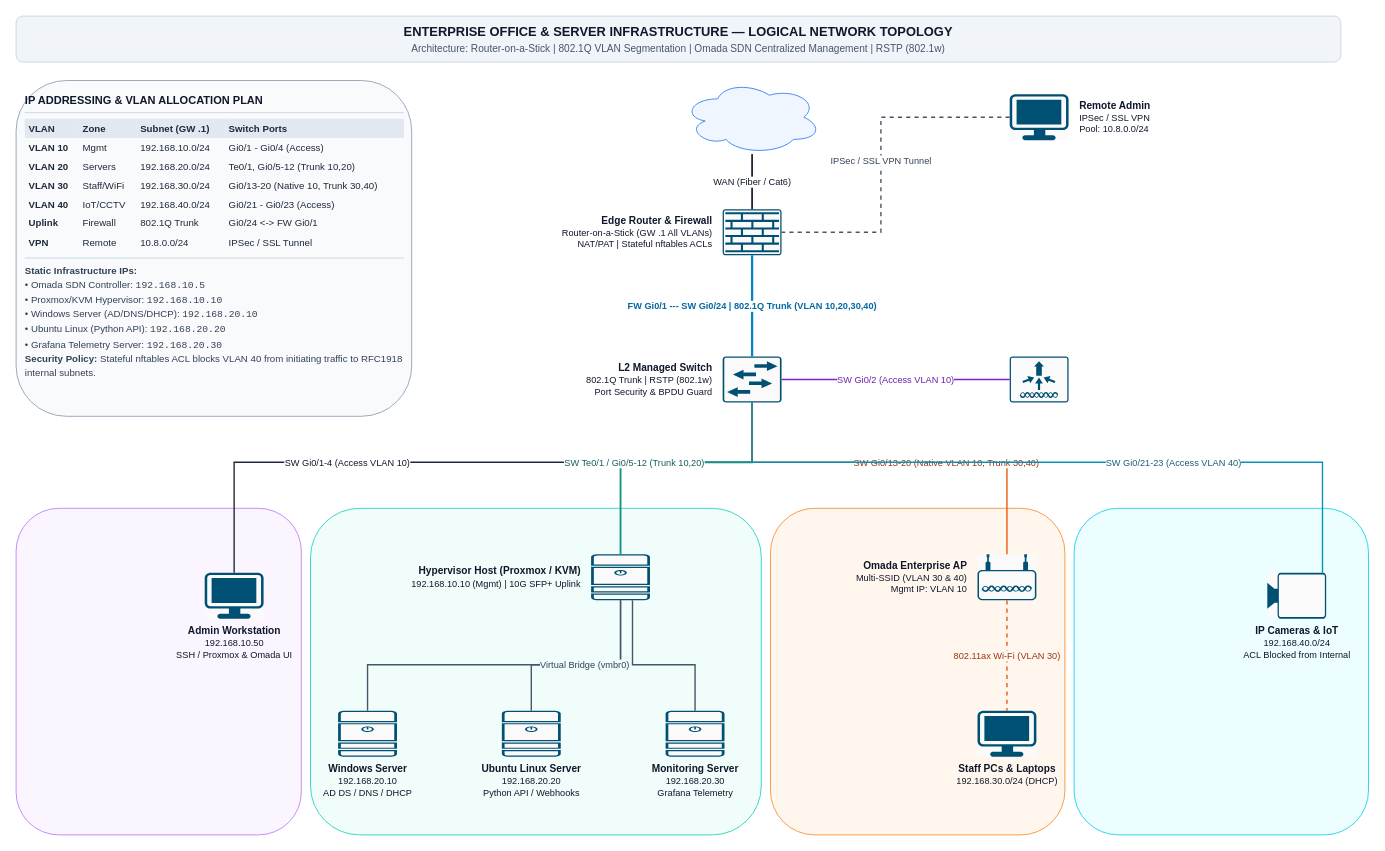
The diagram is 1385 pixels wide and 851 high, and some of its shapes have lost their labels. Each missing label, with the box of its shape:
Internet / ISP WAN: DHCP / PPPoE: (682, 80, 821, 154)
Omada SDN Controller 192.168.10.5 (VLAN 10) Switch & AP Provisioning: (1009, 356, 1069, 402)
VLAN 10: MGMT (192.168.10.0/24 | GW .1): (15, 507, 301, 835)
VLAN 20: CORE SERVERS & VIRTUALIZATION (192.168.20.0/24 | GW .1): (310, 507, 761, 835)
VLAN 30: STAFF WI-FI (192.168.30.0/24 | GW .1): (770, 507, 1065, 835)
VLAN 40: IoT & CCTV (192.168.40.0/24 | GW .1): (1073, 507, 1368, 835)
